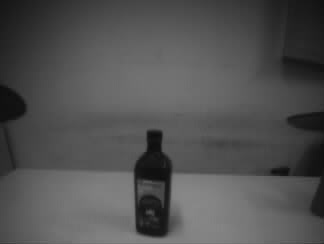Bottle: (132, 128, 174, 237)
